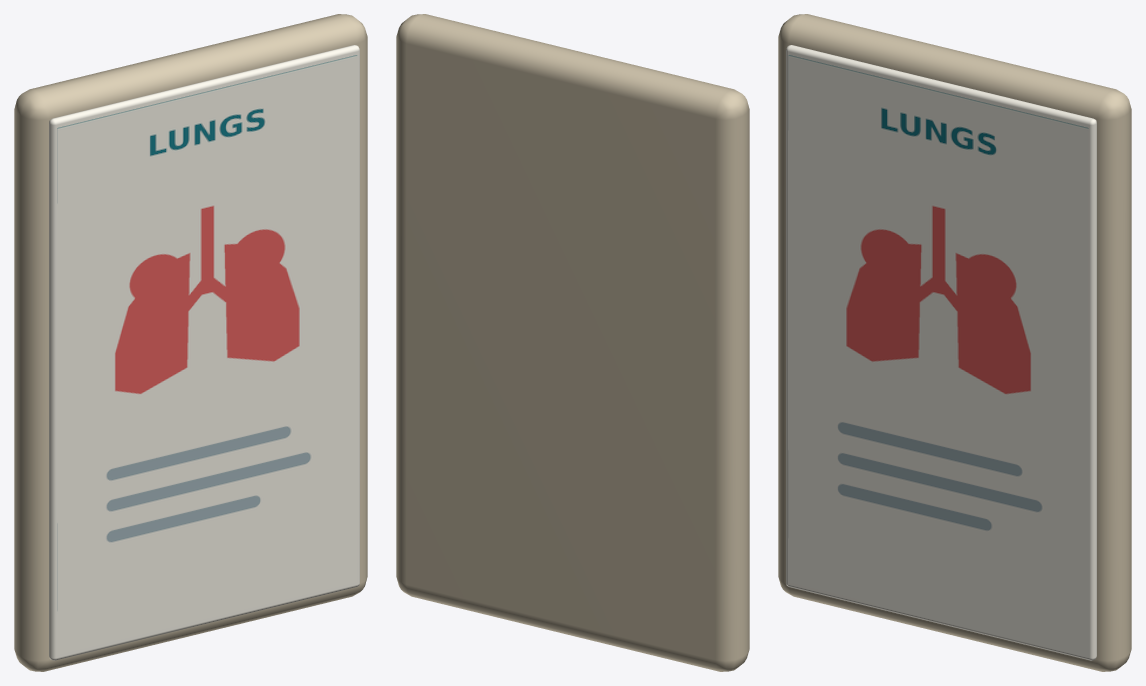
The model's file is Assessment_Poster_Lungs.glb.
3 views of the same model, side by side, from view 1: azimuth 30°, elevation 25°; view 2: azimuth 150°, elevation 25°; view 3: azimuth 330°, elevation 25° (orthographic).
Parts seen in each view (by area): view 1: Assessment_Poster_Lungs__Graphics, Assessment_Poster_Lungs__Visual; view 2: Assessment_Poster_Lungs__Visual; view 3: Assessment_Poster_Lungs__Graphics, Assessment_Poster_Lungs__Visual.
Part boxes in pixels (x1,y1,x2,y2): Assessment_Poster_Lungs__Graphics: (57, 55, 357, 654); Assessment_Poster_Lungs__Visual: (14, 14, 367, 671); Assessment_Poster_Lungs__Visual: (396, 14, 749, 671); Assessment_Poster_Lungs__Graphics: (788, 55, 1088, 654); Assessment_Poster_Lungs__Visual: (778, 14, 1131, 671).
Size of the model in its own units: 0.43 by 0.69 by 0.0614.
Materials: 2 (2 with a texture image).
